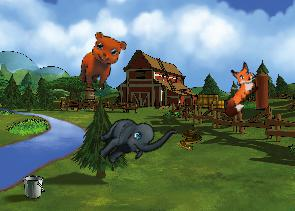bear: (77, 30, 128, 94)
elephant: (90, 95, 178, 184)
fox: (207, 58, 267, 120)
